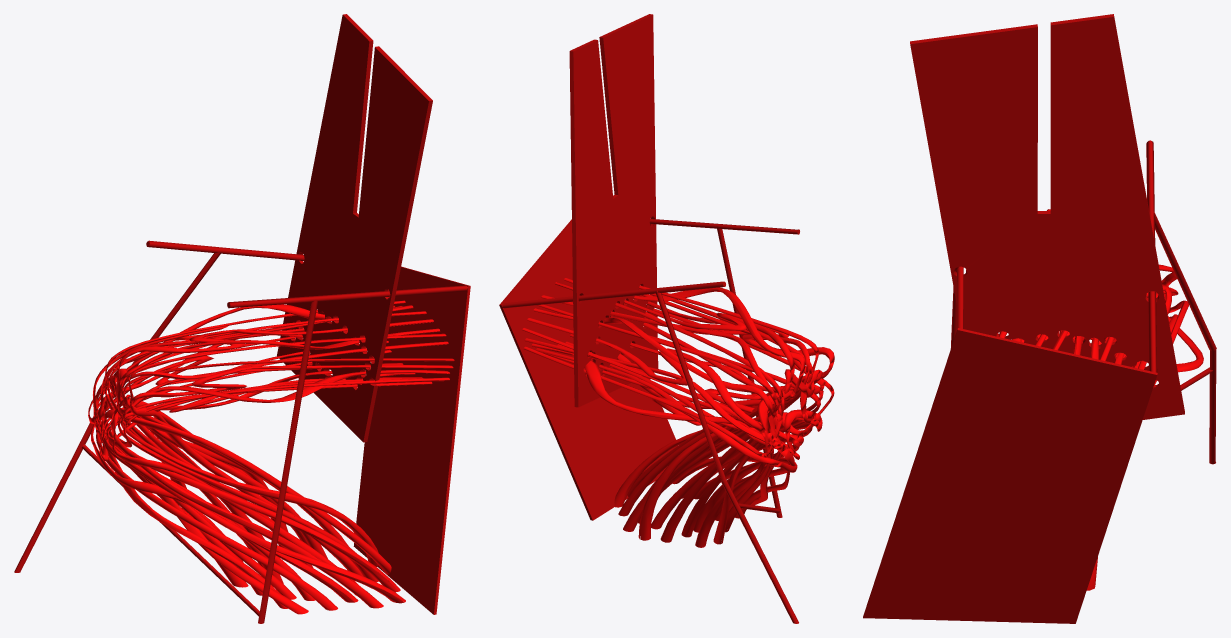
Rendered from aretaix-red-v15.glb.
3 views of the same model, side by side, from view 1: azimuth 30°, elevation 25°; view 2: azimuth 150°, elevation 25°; view 3: azimuth 270°, elevation 25° (orthographic). The views are drawn at different scales.
Visible parts, largest first — view 1: aretaix-red; view 2: aretaix-red; view 3: aretaix-red.
Part boxes in pixels (x1=…): aretaix-red: x1=14, y1=14, x2=470, y2=623; aretaix-red: x1=499, y1=14, x2=834, y2=623; aretaix-red: x1=863, y1=14, x2=1216, y2=623.
Bounding box in the file's own units: 0.6885 × 0.9807 × 0.5144.
